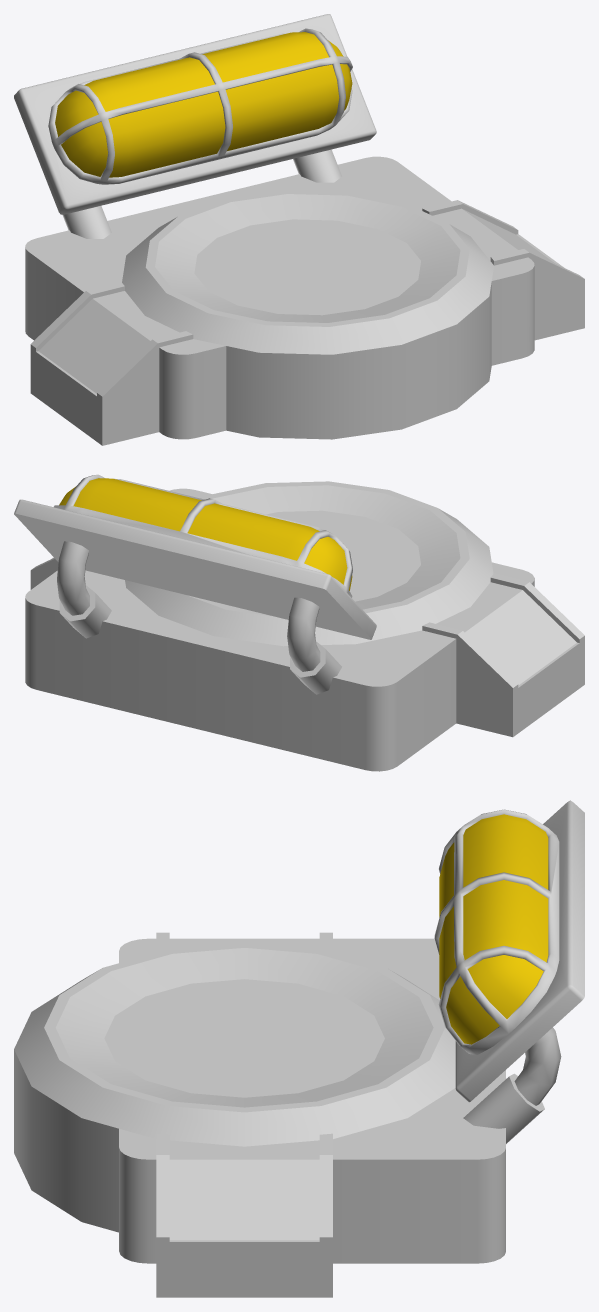
File: PressurePlate.fbx
3 renders of one model, top to bottom at view 1: azimuth 30°, elevation 25°; view 2: azimuth 150°, elevation 25°; view 3: azimuth 270°, elevation 25°, orthographic. The views are drawn at different scales.
Visible parts, largest first — view 1: Button, ButtonStand, ButtonLight; view 2: ButtonStand, ButtonLight, Button; view 3: Button, ButtonStand, ButtonLight.
Part boxes in pixels (left/top/right/bottom): Button: left=122, top=190, right=493, bottom=439; ButtonStand: left=25, top=156, right=584, bottom=445; ButtonLight: left=14, top=14, right=376, bottom=238; ButtonStand: left=25, top=488, right=584, bottom=771; ButtonLight: left=14, top=474, right=376, bottom=694; Button: left=125, top=481, right=493, bottom=646; Button: left=14, top=943, right=455, bottom=1232; ButtonStand: left=119, top=932, right=505, bottom=1297; ButtonLight: left=434, top=800, right=584, bottom=1143.
Bounding box in the file's own units: 222 × 100 × 186.
